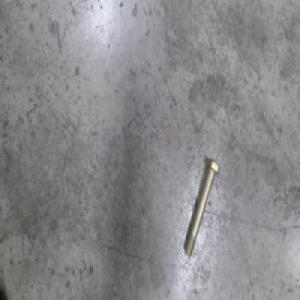Bolt: (183, 160, 219, 259)
